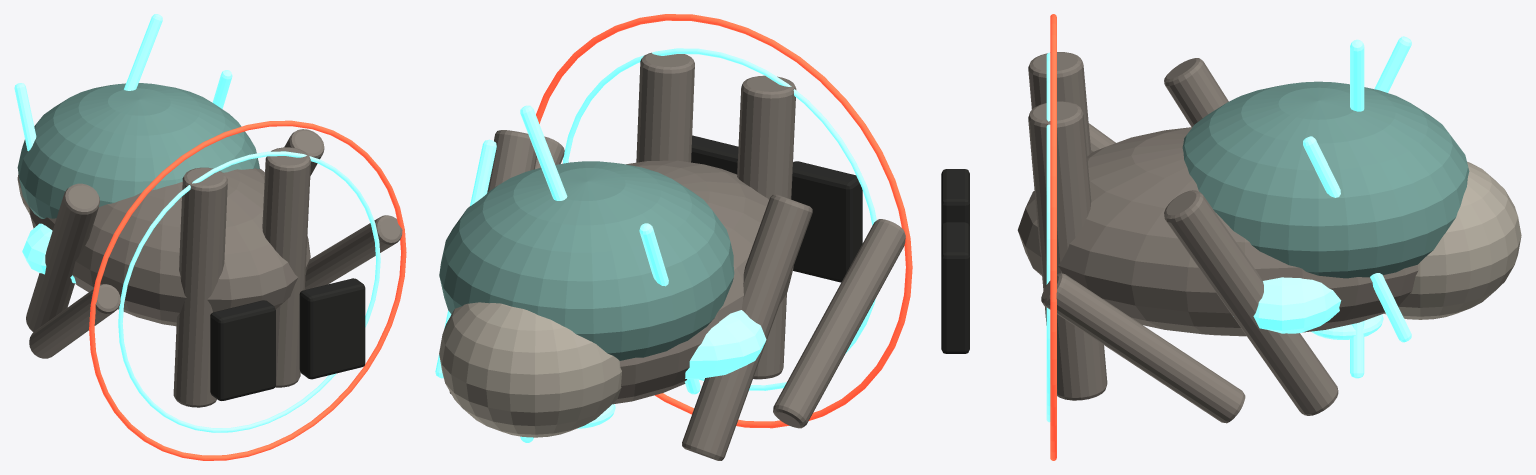
The model's file is dz_boss_final_host_zero.glb.
3 renders of one model, left to right at view 1: azimuth 30°, elevation 25°; view 2: azimuth 150°, elevation 25°; view 3: azimuth 270°, elevation 25°, orthographic. The views are drawn at different scales.
Parts seen in each view (by area): view 1: dz_variant_core_mass_hote_zero, dz_torso_boss_hote_zero, dz_limb_leg_l_hote_zero, dz_limb_leg_r_hote_zero, dz_boss_attack_cue_hote_zero_outer, dz_limb_foot_r_hote_zero, dz_limb_foot_l_hote_zero, dz_limb_arm_l_hote_zero, dz_boss_attack_cue_hote_zero, dz_limb_forearm_r_hote_zero, dz_limb_forearm_l_hote_zero, dz_chest_boss_hote_zero (+4 smaller); view 2: dz_variant_core_mass_hote_zero, dz_head_boss_hote_zero, dz_limb_arm_l_hote_zero, dz_torso_boss_hote_zero, dz_limb_forearm_l_hote_zero, dz_limb_leg_l_hote_zero, dz_limb_foot_l_hote_zero, dz_boss_attack_cue_hote_zero_outer, dz_limb_leg_r_hote_zero, dz_chest_boss_hote_zero, dz_boss_attack_cue_hote_zero, dz_limb_arm_r_hote_zero (+4 smaller); view 3: dz_variant_core_mass_hote_zero, dz_torso_boss_hote_zero, dz_limb_arm_r_hote_zero, dz_head_boss_hote_zero, dz_limb_leg_r_hote_zero, dz_limb_forearm_r_hote_zero, dz_chest_boss_hote_zero, dz_limb_foot_r_hote_zero, dz_boss_attack_cue_hote_zero_outer, dz_limb_arm_l_hote_zero, dz_limb_leg_l_hote_zero, dz_lab_tube_hote_zero_0 (+6 smaller).
Boxes of the visible parts, x1,y1,x2,y2 form: dz_variant_core_mass_hote_zero: (17,83,259,218); dz_torso_boss_hote_zero: (29,168,310,326); dz_limb_leg_l_hote_zero: (173,167,227,407); dz_limb_leg_r_hote_zero: (262,147,310,387); dz_boss_attack_cue_hote_zero_outer: (89,120,406,460); dz_limb_foot_r_hote_zero: (299,278,365,379); dz_limb_foot_l_hote_zero: (210,300,275,400); dz_limb_arm_l_hote_zero: (26,183,99,332); dz_boss_attack_cue_hote_zero: (118,151,380,432); dz_limb_forearm_r_hote_zero: (304,215,402,289); dz_limb_forearm_l_hote_zero: (29,284,120,358); dz_chest_boss_hote_zero: (22,223,75,283); dz_variant_core_mass_hote_zero: (439,161,734,360); dz_head_boss_hote_zero: (439,302,621,437); dz_limb_arm_l_hote_zero: (682,194,812,460); dz_torso_boss_hote_zero: (612,160,793,404); dz_limb_forearm_l_hote_zero: (773,219,905,428); dz_limb_leg_l_hote_zero: (737,75,796,379); dz_limb_foot_l_hote_zero: (791,161,862,282); dz_boss_attack_cue_hote_zero_outer: (536,14,912,428); dz_limb_leg_r_hote_zero: (636,52,694,162); dz_chest_boss_hote_zero: (685,310,766,379); dz_boss_attack_cue_hote_zero: (563,48,876,390); dz_limb_arm_r_hote_zero: (449,130,536,394); dz_variant_core_mass_hote_zero: (1182,81,1469,278); dz_torso_boss_hote_zero: (1017,127,1418,336); dz_limb_arm_r_hote_zero: (1164,190,1338,415); dz_head_boss_hote_zero: (1384,161,1521,319); dz_limb_leg_r_hote_zero: (1028,101,1107,400); dz_limb_forearm_r_hote_zero: (1041,273,1245,423); dz_chest_boss_hote_zero: (1253,277,1341,333); dz_limb_foot_r_hote_zero: (941,222,969,353); dz_boss_attack_cue_hote_zero_outer: (1050,14,1056,460); dz_limb_arm_l_hote_zero: (1164,58,1228,127); dz_limb_leg_l_hote_zero: (1028,52,1091,155); dz_lab_tube_hote_zero_0: (1303,136,1411,342).
Size of the model in its own units: 2.19 by 2.27 by 2.85.
